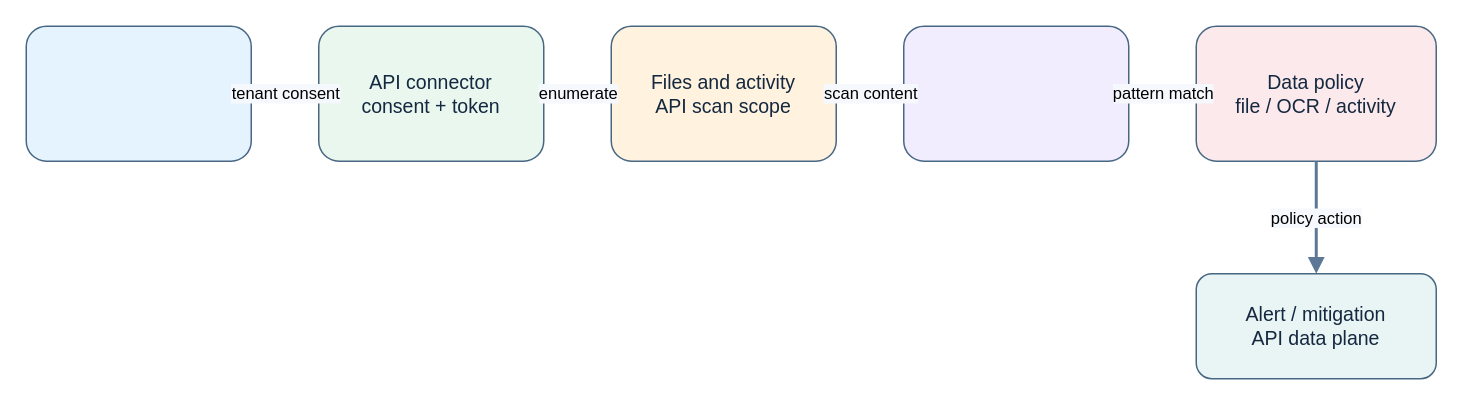
Image size: 1463x405. Some labels were removed from this diagram. The shapes that lost their labels are listed below. From the top down, each one's box as (x1, y1, x2, y2) in pixels, then its label:
(25, 25, 251, 161): SaaS tenant onboarded account
(902, 25, 1129, 161): DLP patterns FortiGuard / PCRE
